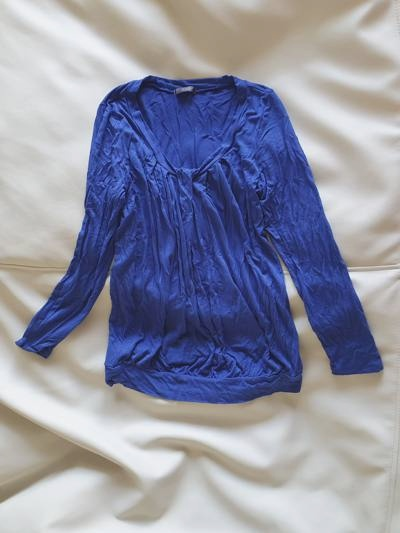Dress: (13, 82, 381, 403)
